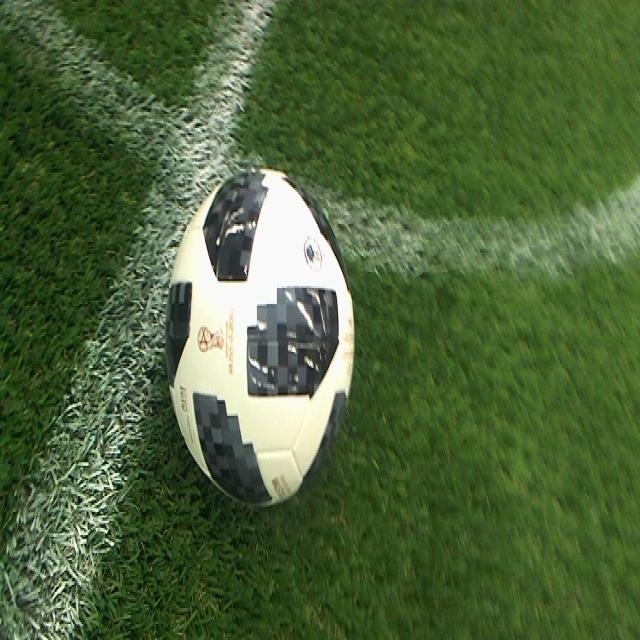ball: (166, 169, 356, 507)
